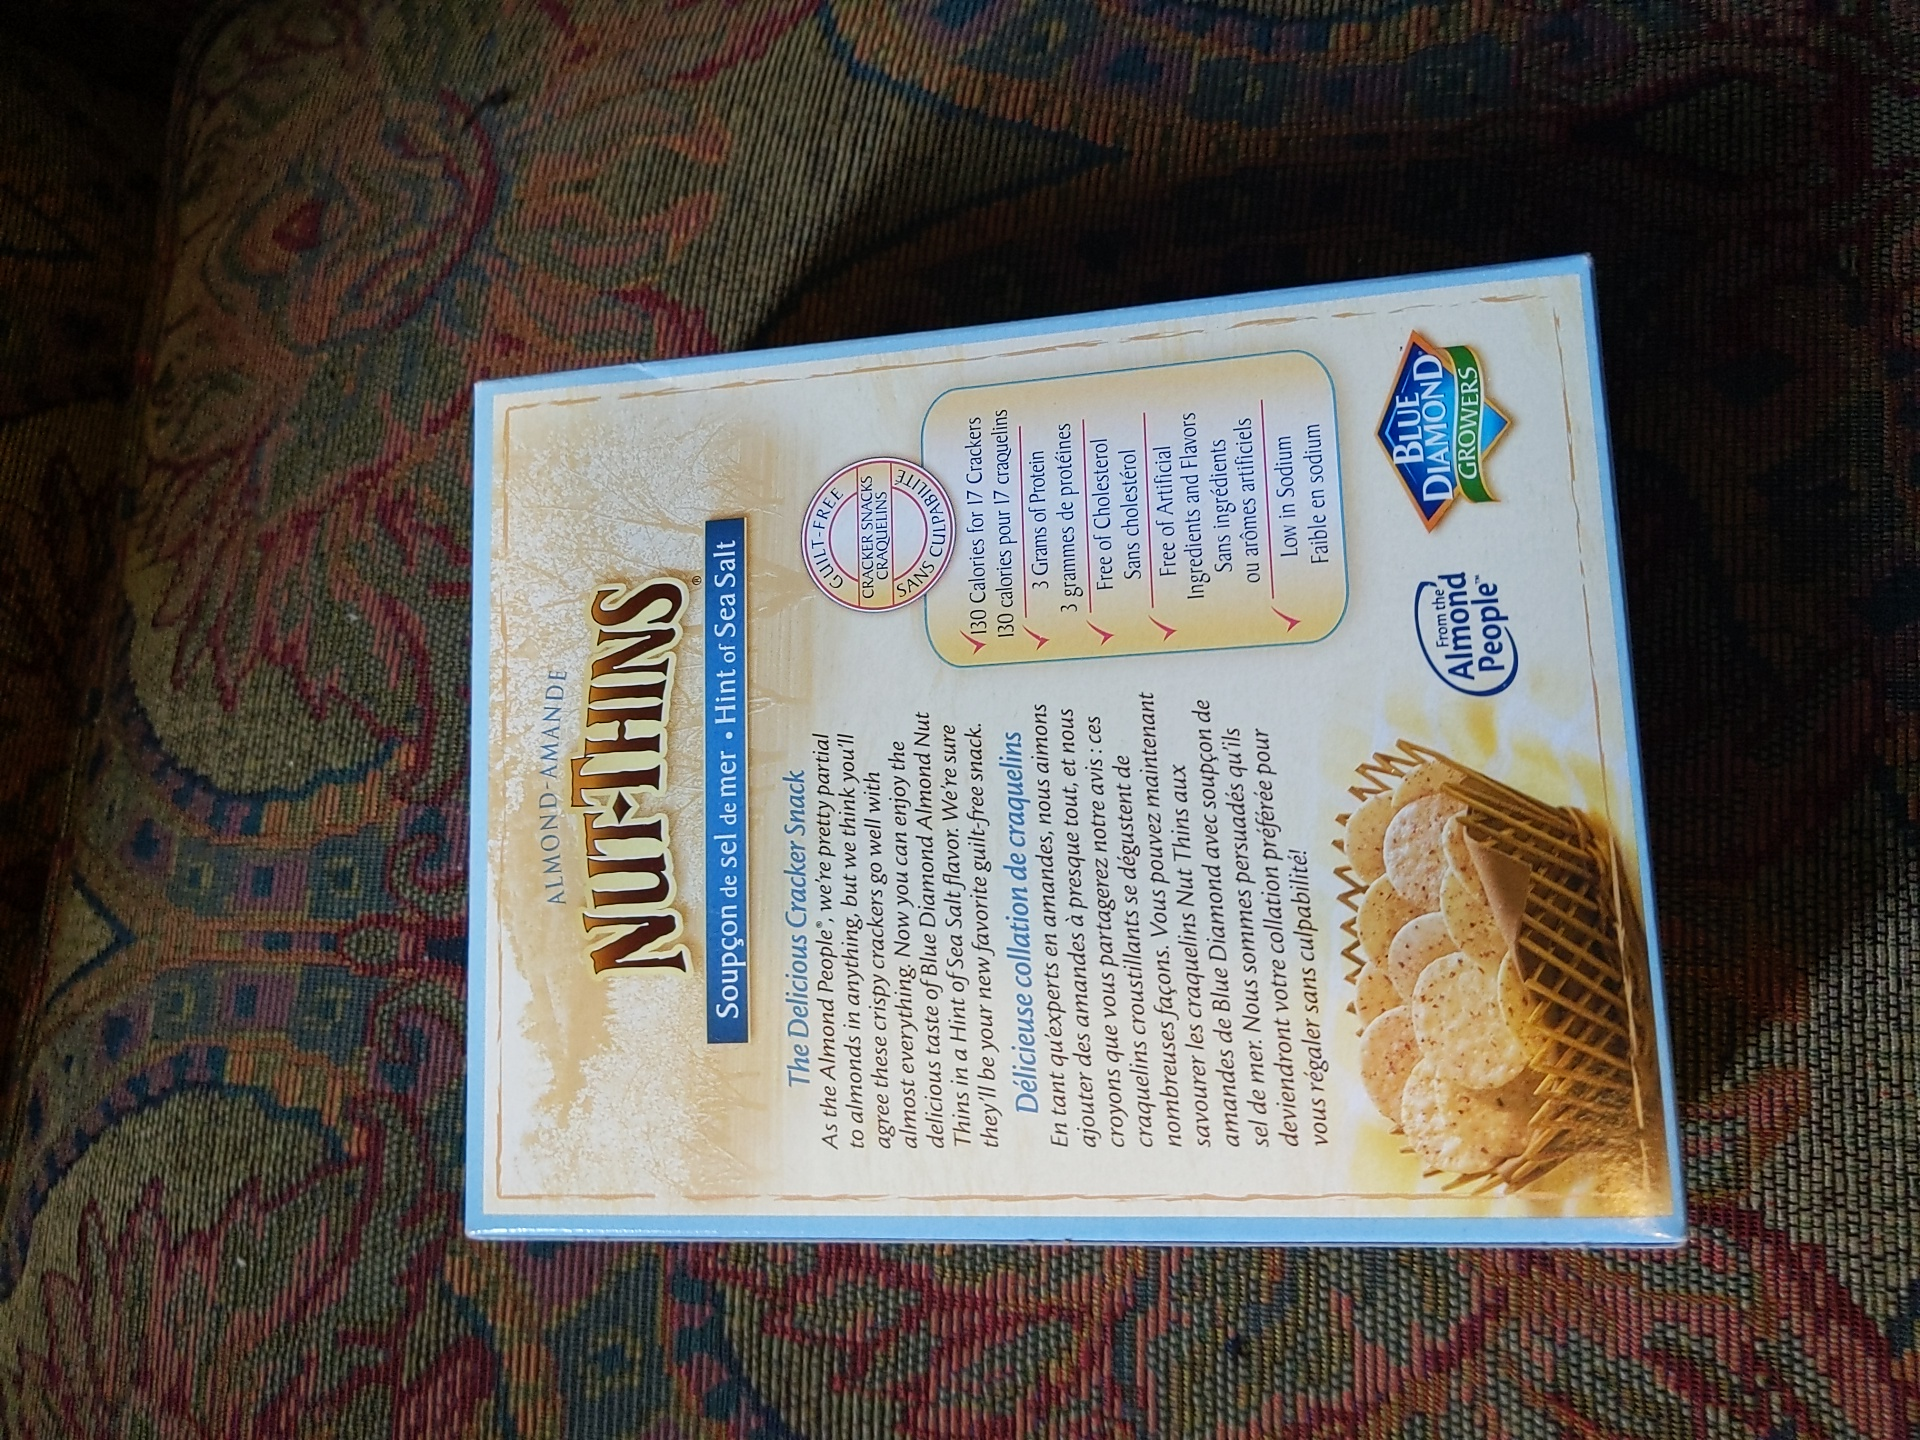blue_diamond_nut_thins_almond_seasalt: (478, 372, 1684, 1246)
